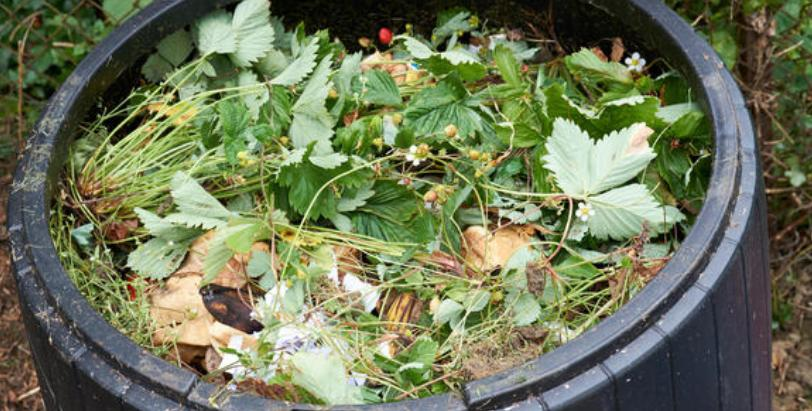organic: (68, 11, 714, 400)
